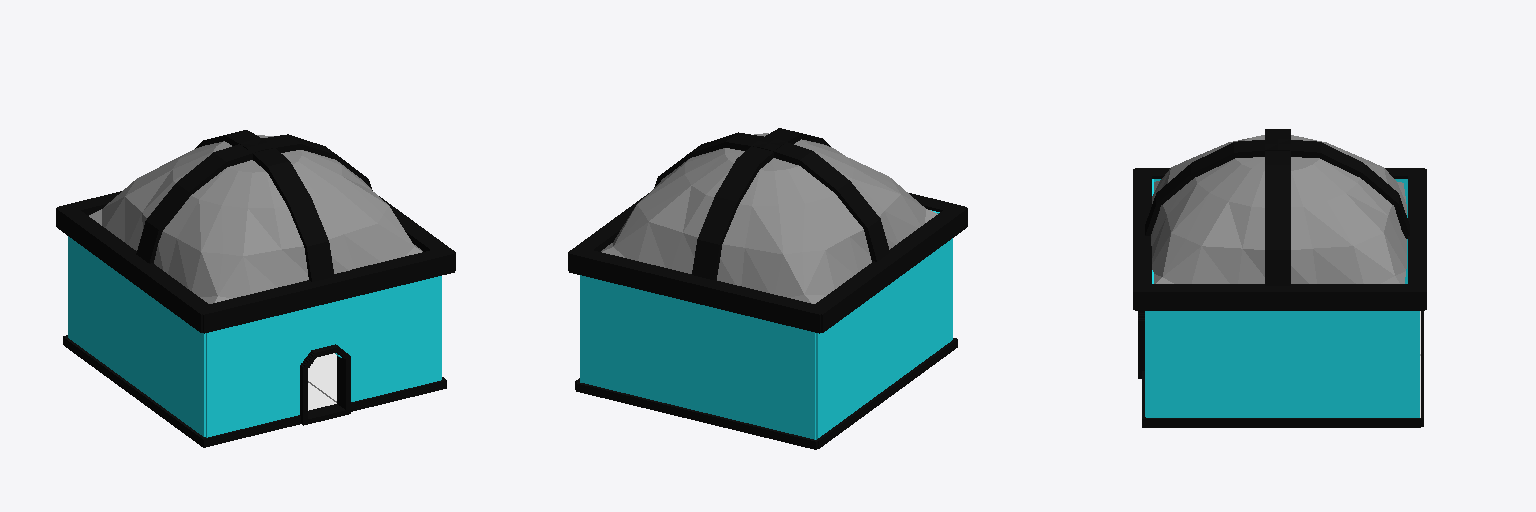
3 views of the same model, side by side, from view 1: azimuth 30°, elevation 25°; view 2: azimuth 150°, elevation 25°; view 3: azimuth 270°, elevation 25° (orthographic).
Visible parts, largest first — view 1: base_line128, Sphere001, Box001, base_line129, base_floor001; view 2: base_line128, Sphere001, Box001, base_line129; view 3: base_line128, Sphere001, Box001, base_line129.
Part boxes in pixels (x1,y1,x2,y2): base_line128: (68, 236, 441, 437); Sphere001: (89, 135, 422, 303); Box001: (56, 130, 455, 333); base_line129: (63, 335, 446, 447); base_floor001: (308, 353, 336, 410); base_line128: (580, 210, 952, 439); Sphere001: (601, 133, 937, 303); Box001: (568, 128, 967, 333); base_line129: (575, 338, 957, 449); base_line128: (1145, 179, 1419, 417); Sphere001: (1151, 135, 1406, 283); Box001: (1133, 129, 1426, 310); base_line129: (1138, 311, 1423, 427).
Size of the model in its own units: 0.8015 by 0.6727 by 0.8024.